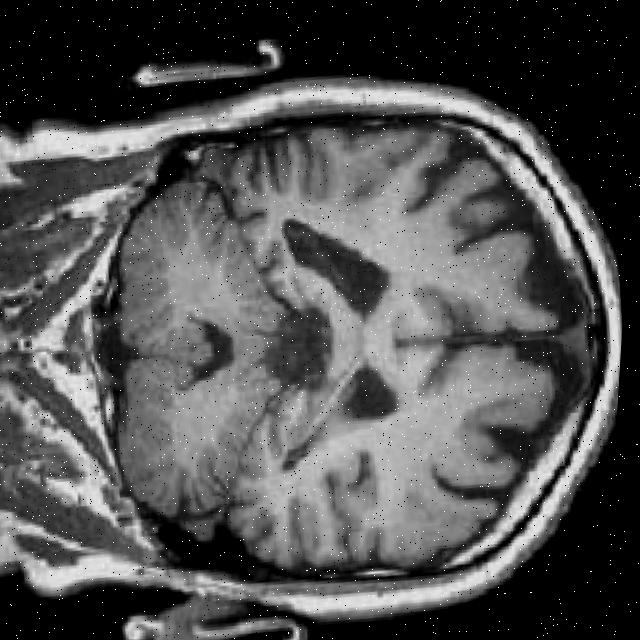NoTumor: (64, 28, 639, 640)
